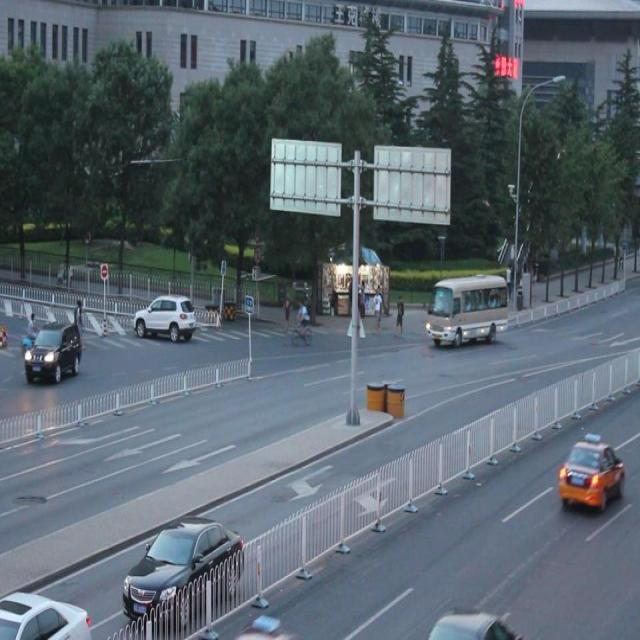car: (124, 515, 246, 628), (555, 433, 623, 508), (1, 588, 93, 640), (25, 320, 82, 380), (132, 292, 196, 342), (426, 604, 512, 640)
truck: (428, 276, 508, 341)
